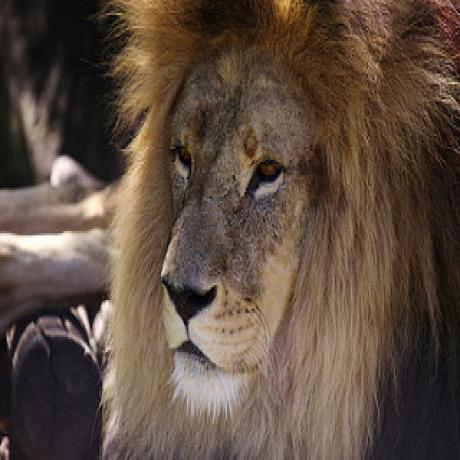Lion: (98, 0, 460, 460)
